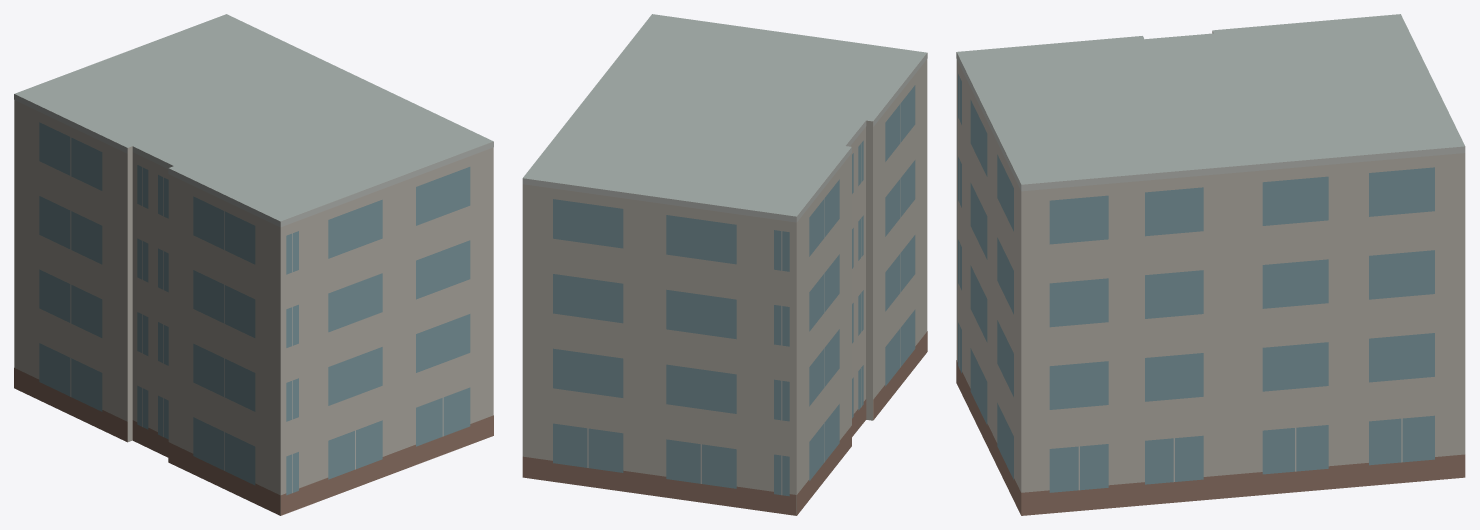
Rendered from survey-upis-32737688.glb.
3 renders of one model, left to right at view 1: azimuth 30°, elevation 25°; view 2: azimuth 150°, elevation 25°; view 3: azimuth 270°, elevation 25°, orthographic. The views are drawn at different scales.
Parts seen in each view (by area): view 1: survey-upis-32737688.tmp; view 2: survey-upis-32737688.tmp; view 3: survey-upis-32737688.tmp.
Boxes of the visible parts, left/top/right/bottom form: survey-upis-32737688.tmp: left=14, top=14, right=493, bottom=515; survey-upis-32737688.tmp: left=522, top=14, right=927, bottom=515; survey-upis-32737688.tmp: left=956, top=14, right=1465, bottom=515.
Bounding box in the file's own units: 13.5 × 12.2 × 17.
